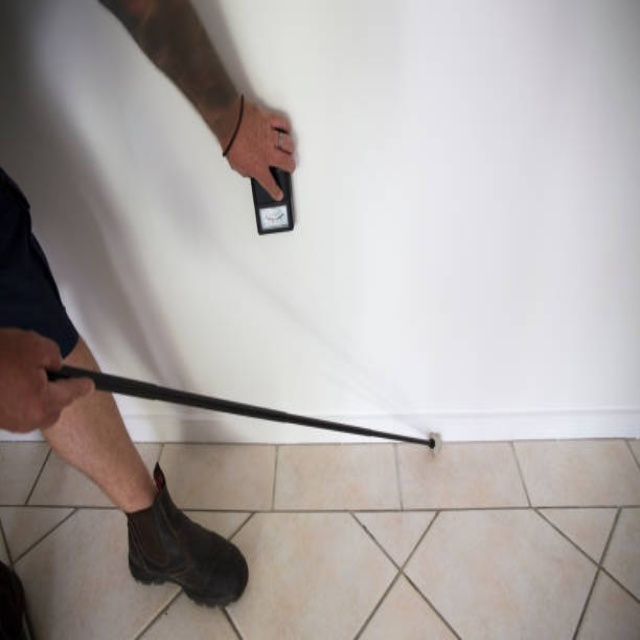Sin_guantes: (1, 331, 93, 435), (223, 96, 297, 199)
